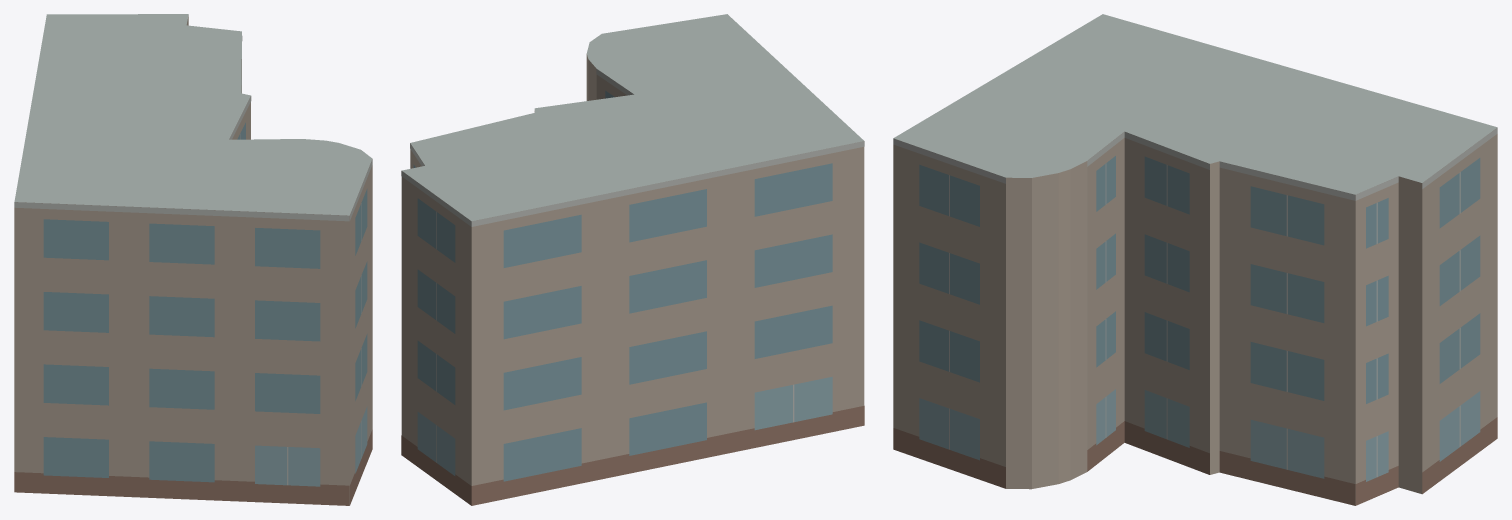
File: survey-upis-32645406.glb
The picture shows the model from 3 angles, left to right: view 1: azimuth 30°, elevation 25°; view 2: azimuth 150°, elevation 25°; view 3: azimuth 270°, elevation 25°; orthographic projection. The views are drawn at different scales.
Parts seen in each view (by area): view 1: survey-upis-32645406.tmp; view 2: survey-upis-32645406.tmp; view 3: survey-upis-32645406.tmp.
Boxes of the visible parts, <box> form: survey-upis-32645406.tmp: <box>14,14,372,505</box>; survey-upis-32645406.tmp: <box>401,14,864,505</box>; survey-upis-32645406.tmp: <box>893,14,1497,505</box>.
Bounding box in the file's own units: 15.2 × 12.2 × 21.48.
